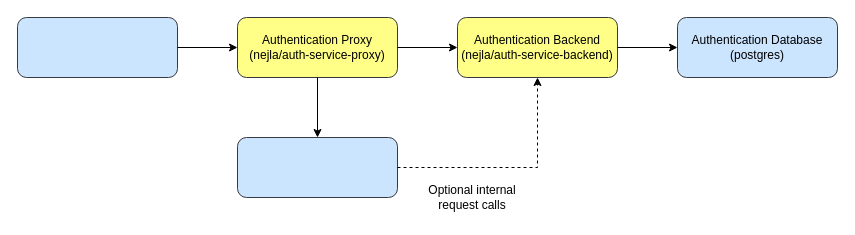
This 855x235 diagram has some shape labels left out. The shapes that lost their labels are listed below. From the top down, each one's box as (x1, y1, x2, y2) in pixels, then its label:
(16, 16, 178, 78): Frontend Proxy
(236, 136, 398, 198): Your Application Server
